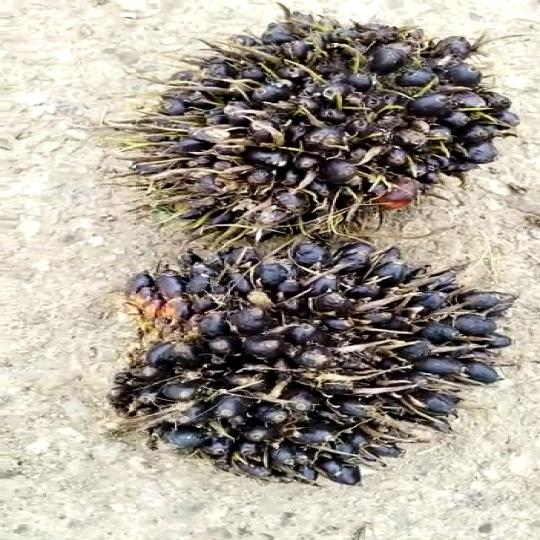mentah: (103, 234, 519, 507), (142, 9, 522, 243)
